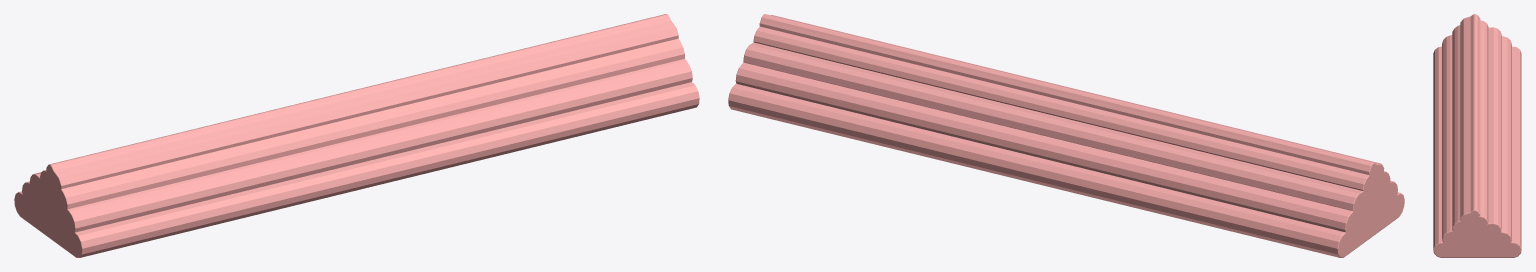
The model's file is machine_gun_part_II_2.fbx.
3 views of the same model, side by side, from view 1: azimuth 30°, elevation 25°; view 2: azimuth 150°, elevation 25°; view 3: azimuth 270°, elevation 25° (orthographic). The views are drawn at different scales.
Parts seen in each view (by area): view 1: poo_hole; view 2: poo_hole; view 3: poo_hole.
Part boxes in pixels (box(x1,y1,x2,y2)): poo_hole: box(14, 14, 699, 257); poo_hole: box(728, 14, 1404, 257); poo_hole: box(1433, 14, 1521, 257).
Bounding box in the file's own units: 35.25 × 4.05 × 6.72.
